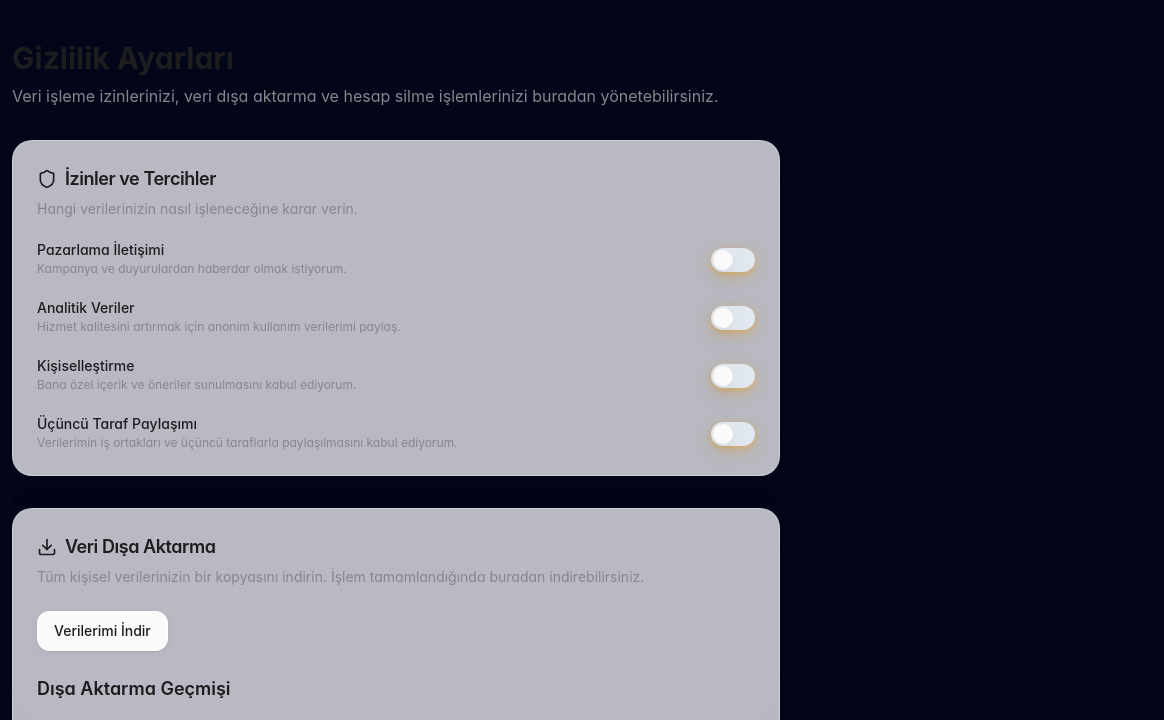
Test: PrivacySettingsPage › handles 429 rate limit error for export requests
The image size is (1164, 720).
Expected: the heading "Gizlilik Ayarları" is shown, x1=12 y1=40 x2=234 y2=76
Click the button "Verilerimi İndir" at (102, 631), box x1=37 y1=611 x2=168 y2=651
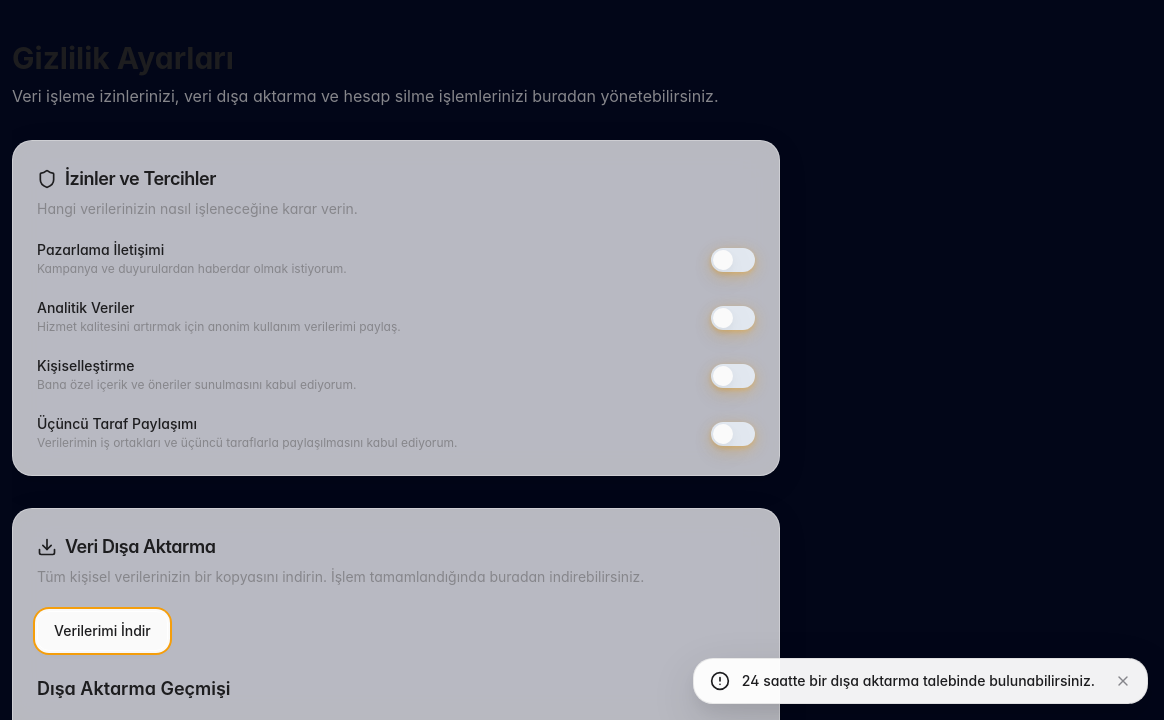
Expected: the text "24 saatte bir dışa aktarma talebinde bulunabilirsiniz." is shown, x1=742 y1=671 x2=1095 y2=691
